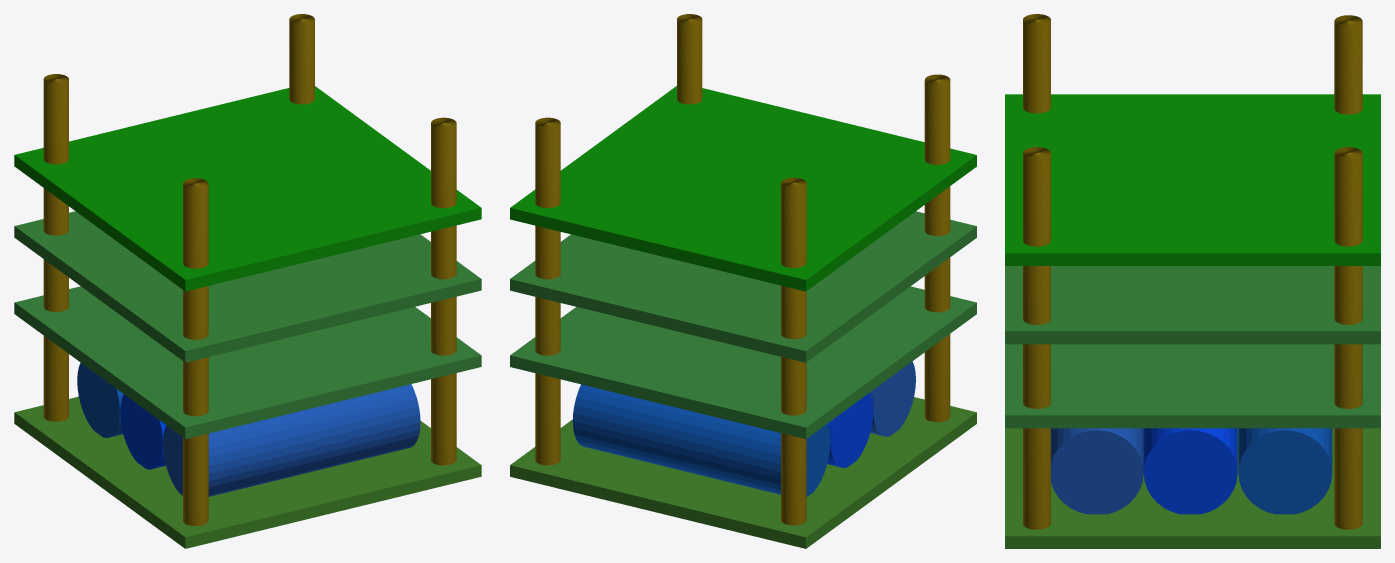
The model's file is layers.glb.
The picture shows the model from 3 angles, left to right: view 1: azimuth 30°, elevation 25°; view 2: azimuth 150°, elevation 25°; view 3: azimuth 270°, elevation 25°; orthographic projection. The views are drawn at different scales.
Parts seen in each view (by area): view 1: Layer 3, Layer 0, Layer 1, Layer 2, Support 3, Support 4, Support 1, Support 2; view 2: Layer 3, Layer 0, Layer 1, Layer 2, Support 2, Support 1, Support 3, Support 4; view 3: Layer 3, Layer 0, Layer 1, Layer 2, Support 2, Support 4, Support 1, Support 3.
Boxes of the visible parts, bbox=[...] form: Layer 3: bbox=[14, 86, 481, 291]; Layer 0: bbox=[14, 362, 481, 548]; Layer 1: bbox=[14, 286, 481, 438]; Layer 2: bbox=[14, 211, 481, 362]; Support 3: bbox=[183, 178, 208, 525]; Support 4: bbox=[431, 117, 456, 465]; Support 1: bbox=[43, 74, 68, 421]; Support 2: bbox=[289, 14, 314, 104]; Layer 3: bbox=[510, 86, 976, 291]; Layer 0: bbox=[510, 361, 976, 548]; Layer 1: bbox=[510, 286, 976, 438]; Layer 2: bbox=[510, 211, 976, 362]; Support 2: bbox=[535, 117, 560, 465]; Support 1: bbox=[781, 177, 806, 525]; Support 3: bbox=[924, 74, 950, 422]; Support 4: bbox=[677, 14, 702, 104]; Layer 3: bbox=[1005, 94, 1380, 265]; Layer 0: bbox=[1005, 428, 1380, 548]; Layer 1: bbox=[1005, 344, 1380, 428]; Layer 2: bbox=[1005, 266, 1380, 344]; Support 2: bbox=[1334, 147, 1362, 529]; Support 4: bbox=[1023, 147, 1050, 529]; Support 1: bbox=[1334, 15, 1362, 114]; Support 3: bbox=[1023, 14, 1050, 113].
Size of the model in its own units: 121 by 136 by 121.
